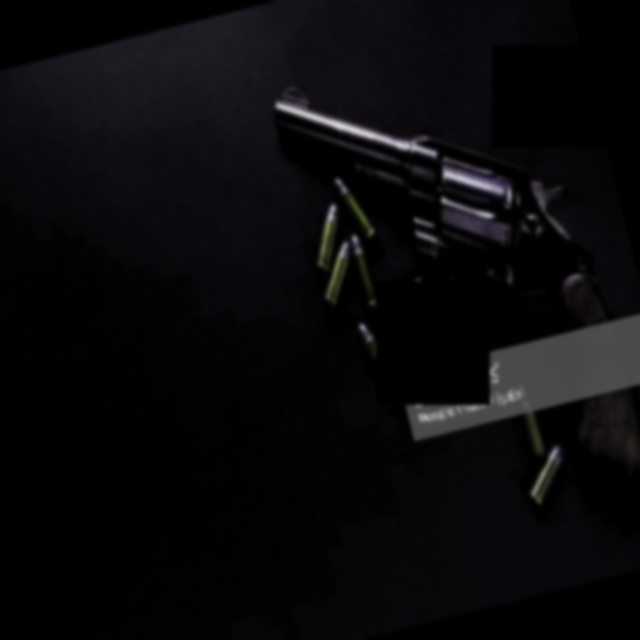gun: (258, 10, 640, 540)
